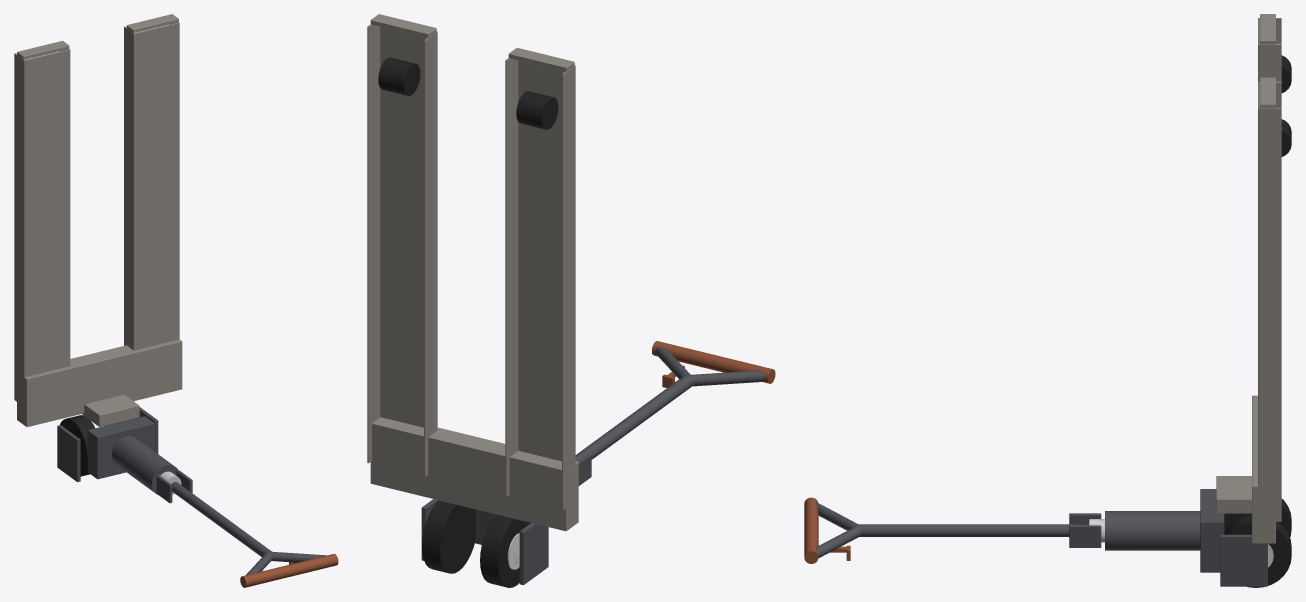
The model's file is Equipment__HandPalletTruck.glb.
3 views of the same model, side by side, from view 1: azimuth 30°, elevation 25°; view 2: azimuth 150°, elevation 25°; view 3: azimuth 270°, elevation 25° (orthographic). The views are drawn at different scales.
Parts seen in each view (by area): view 1: /World/Equipment/HandPalletTruck/Visual/hand_pallet_truck_fo, /World/Equipment/HandPalletTruck/Visual (×3); view 2: /World/Equipment/HandPalletTruck/Visual/hand_pallet_truck_fo, /World/Equipment/HandPalletTruck/Visual (×3); view 3: /World/Equipment/HandPalletTruck/Visual (×3), /World/Equipment/HandPalletTruck/Visual/hand_pallet_truck_fo.
Boxes of the visible parts, x1=… form: /World/Equipment/HandPalletTruck/Visual/hand_pallet_truck_fo: x1=14, y1=14, x2=182, y2=426; /World/Equipment/HandPalletTruck/Visual (×3): x1=57, y1=407, x2=338, y2=587; /World/Equipment/HandPalletTruck/Visual/hand_pallet_truck_fo: x1=367, y1=14, x2=578, y2=531; /World/Equipment/HandPalletTruck/Visual (×3): x1=378, y1=57, x2=775, y2=587; /World/Equipment/HandPalletTruck/Visual (×3): x1=804, y1=55, x2=1291, y2=587; /World/Equipment/HandPalletTruck/Visual/hand_pallet_truck_fo: x1=1216, y1=14, x2=1281, y2=543.
Bounding box in the file's own units: 0.54 × 1.42 × 1.23.
Materials: 5 (1 with a texture image).
